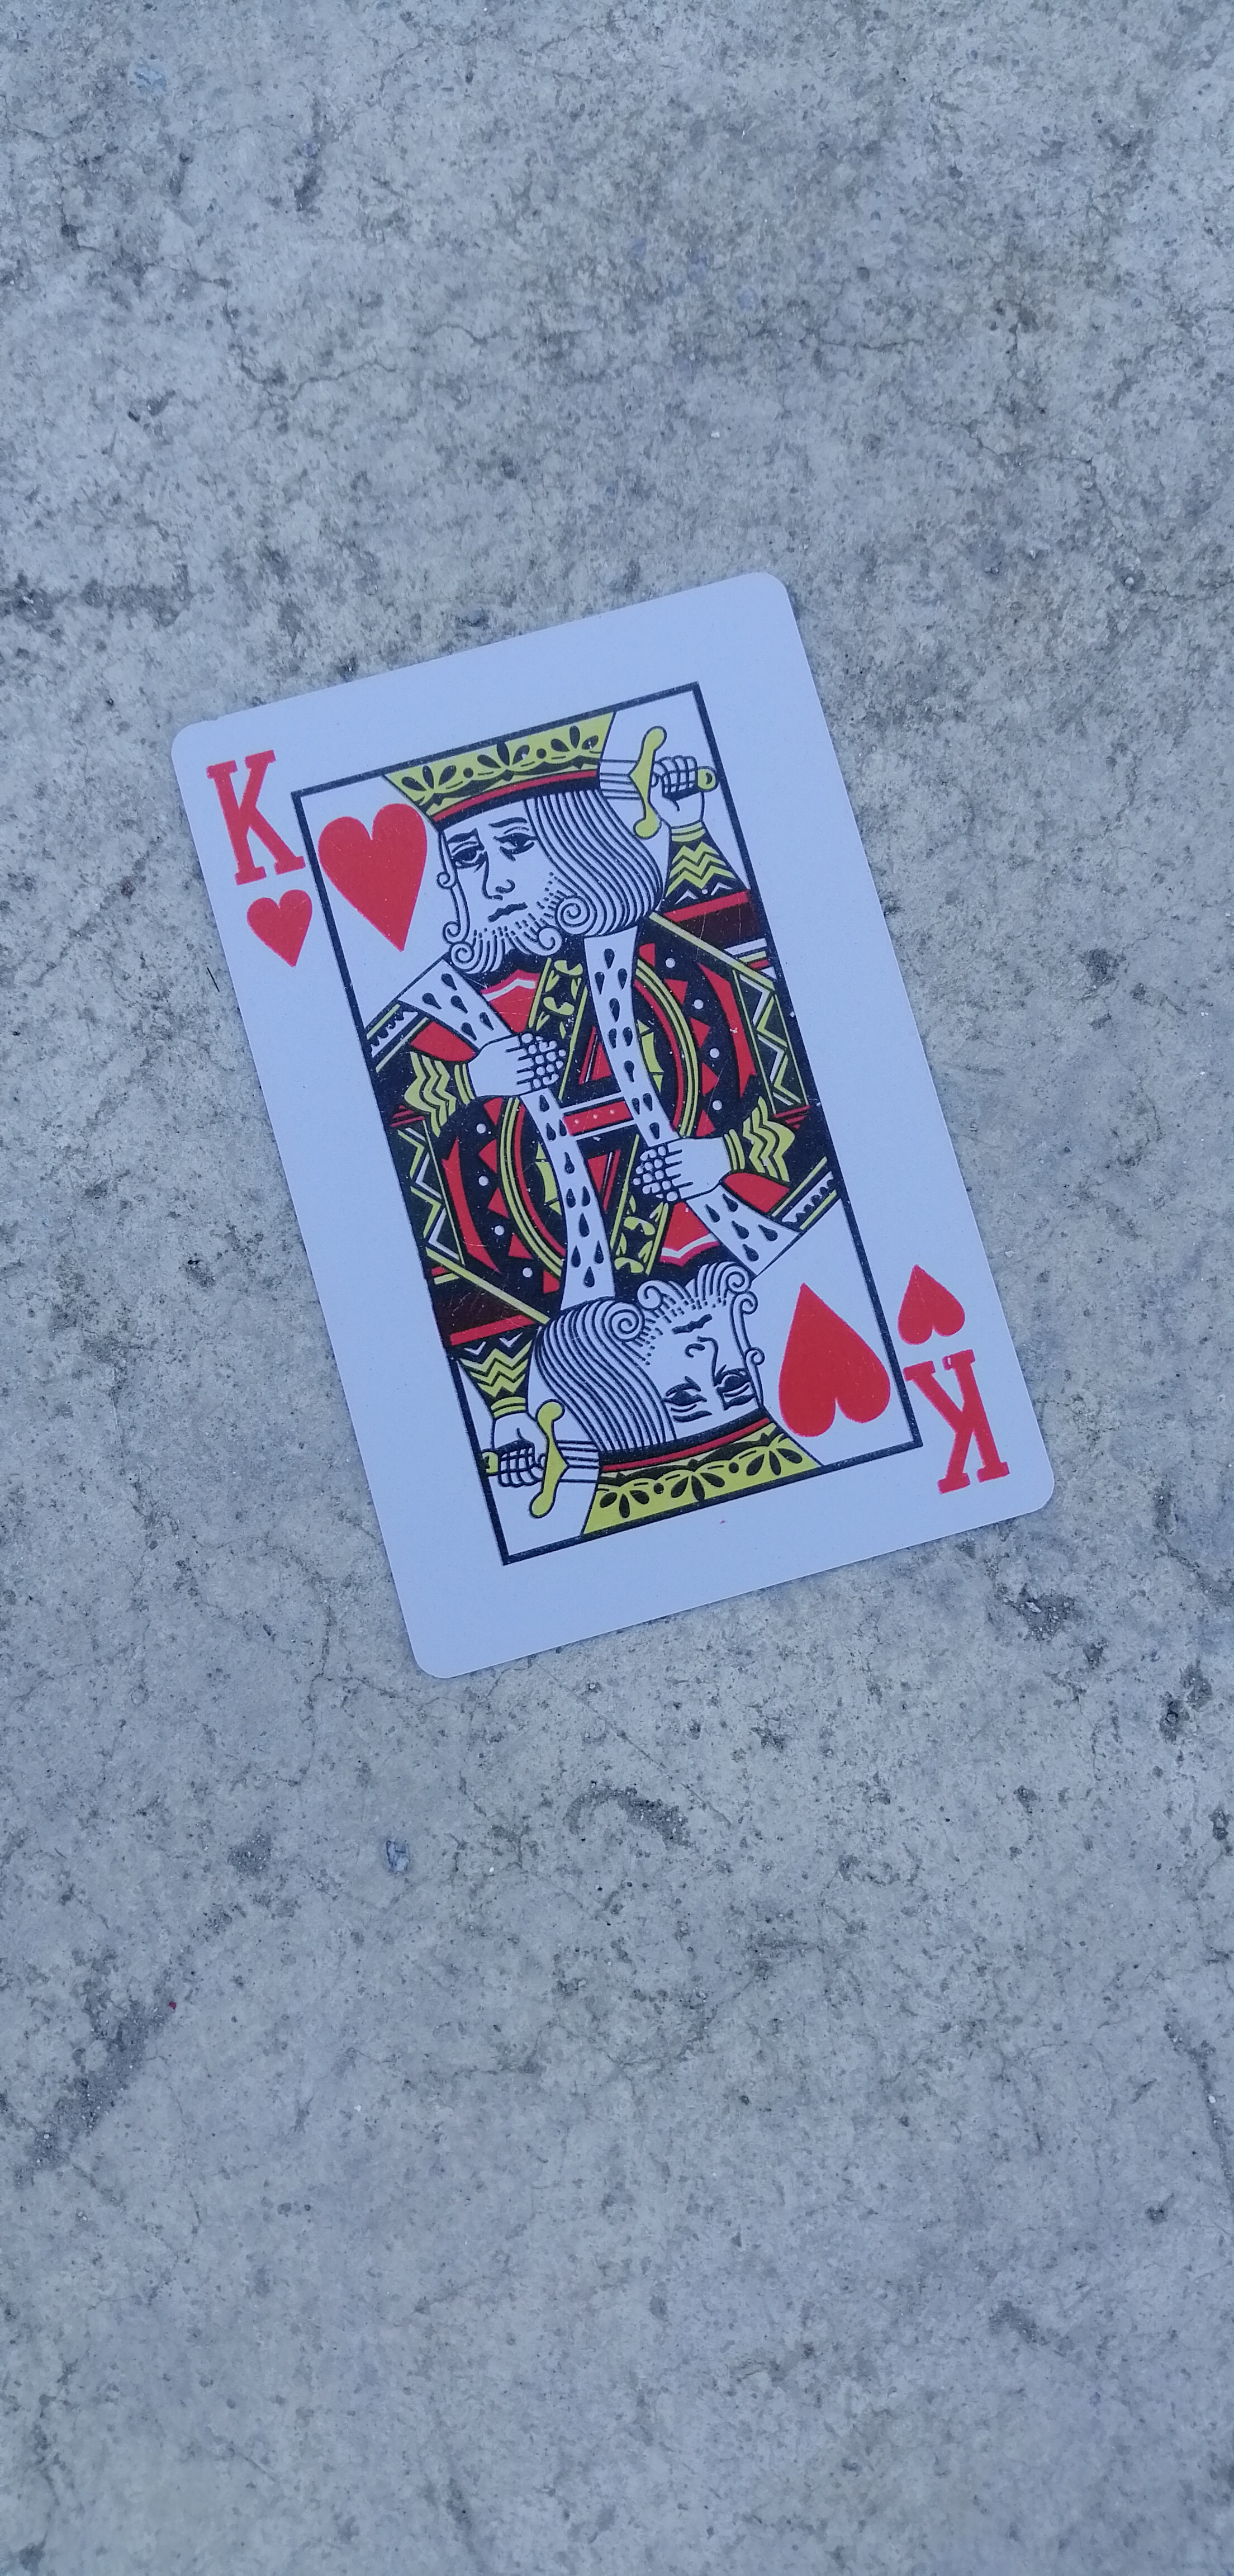king: (154, 563, 1061, 1681)
